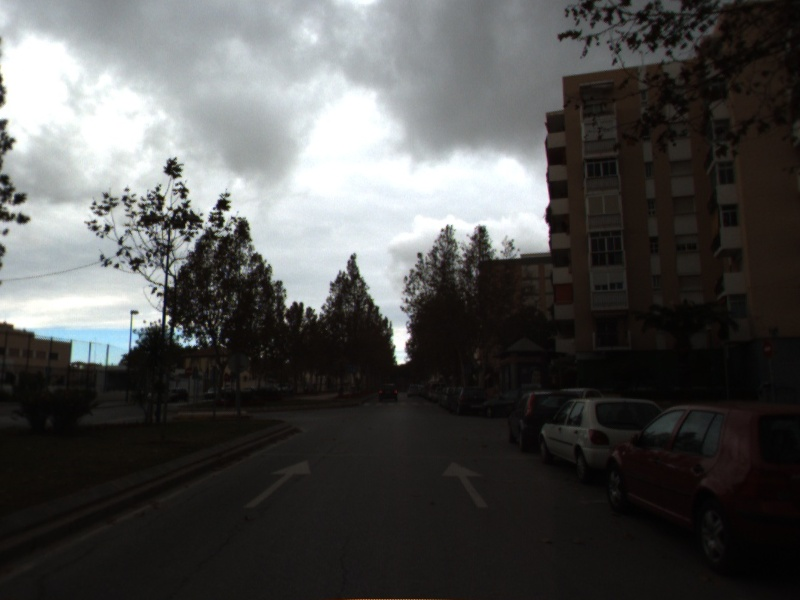STRAIGHT: (242, 457, 314, 510), (439, 459, 490, 510)
